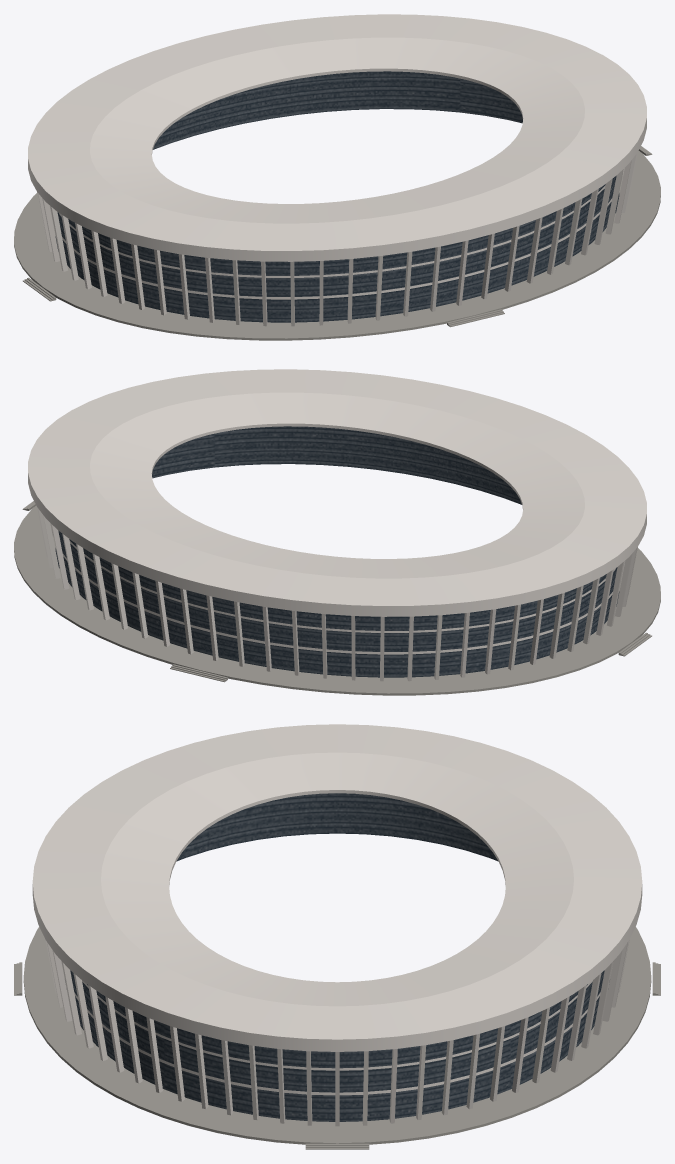
Rendered from ARENA_CASTELAO.fbx.
3 renders of one model, top to bottom at view 1: azimuth 30°, elevation 25°; view 2: azimuth 150°, elevation 25°; view 3: azimuth 270°, elevation 25°, orthographic. The views are drawn at different scales.
Visible parts, largest first — view 1: Arena_Castelao; view 2: Arena_Castelao; view 3: Arena_Castelao.
Part boxes in pixels (<box>): Arena_Castelao: <box>14,14,660,340</box>; Arena_Castelao: <box>14,369,660,695</box>; Arena_Castelao: <box>14,724,660,1149</box>.
Bounding box in the file's own units: 176 × 24.45 × 142.
